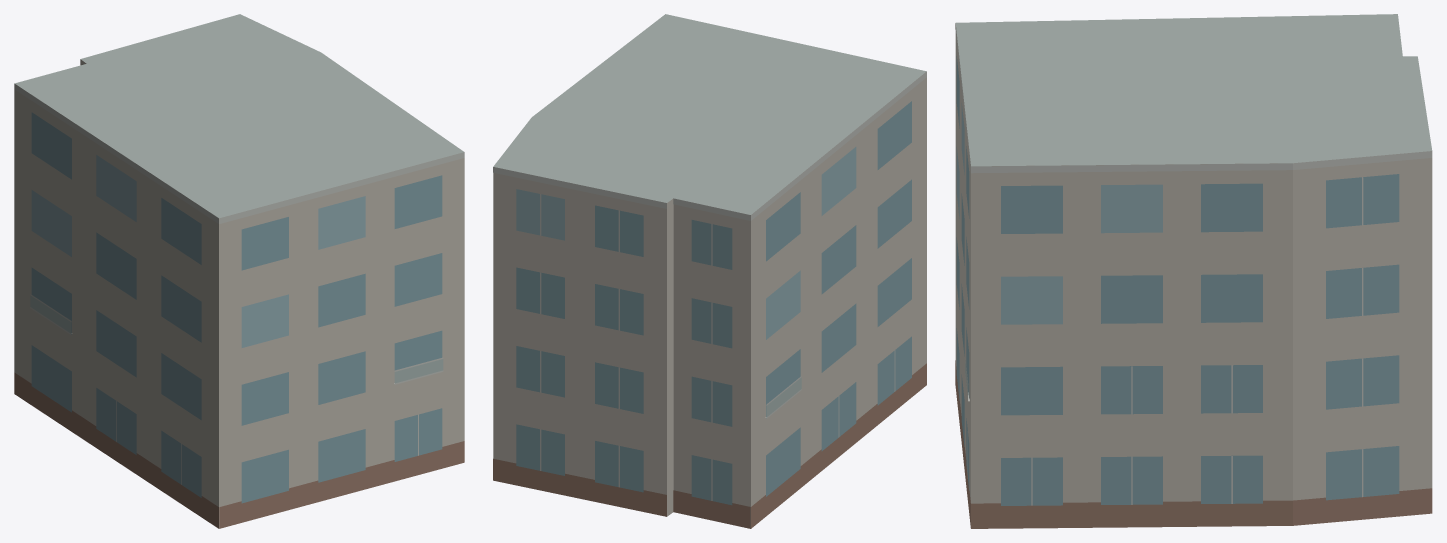
The model's file is survey-upis-32591233.glb.
3 renders of one model, left to right at view 1: azimuth 30°, elevation 25°; view 2: azimuth 150°, elevation 25°; view 3: azimuth 270°, elevation 25°, orthographic. The views are drawn at different scales.
Parts seen in each view (by area): view 1: survey-upis-32591233.tmp; view 2: survey-upis-32591233.tmp; view 3: survey-upis-32591233.tmp.
Part boxes in pixels (<box>): survey-upis-32591233.tmp: <box>14,14,464,528</box>; survey-upis-32591233.tmp: <box>493,14,926,528</box>; survey-upis-32591233.tmp: <box>955,14,1432,528</box>.
Size of the model in its own units: 11.63 by 12.9 by 15.38.
